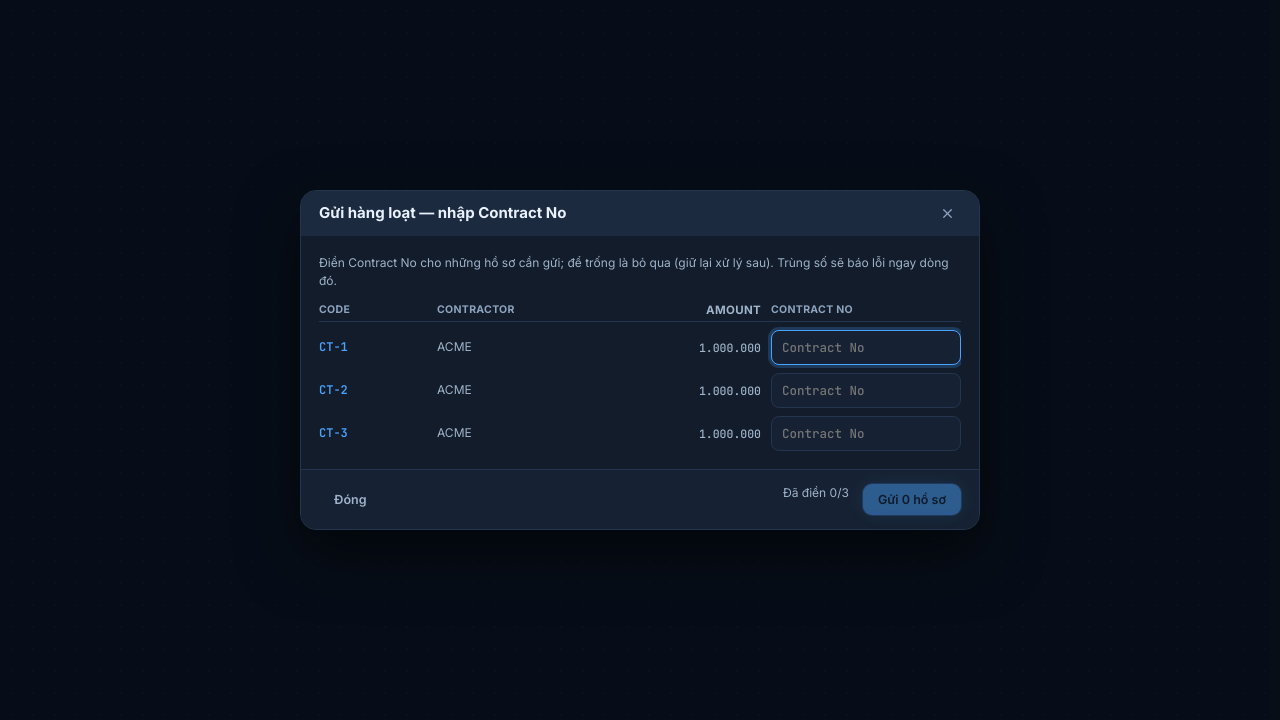
Test: BatchSendAccountingModal — enter many numbers at once › flags the same number typed on two rows live and disables send (sends nothing)
Step 1. Type "SAME" into the field with placeholder "Contract No" in the row of "CT-1" → point(866, 347), box [771,330,961,365]
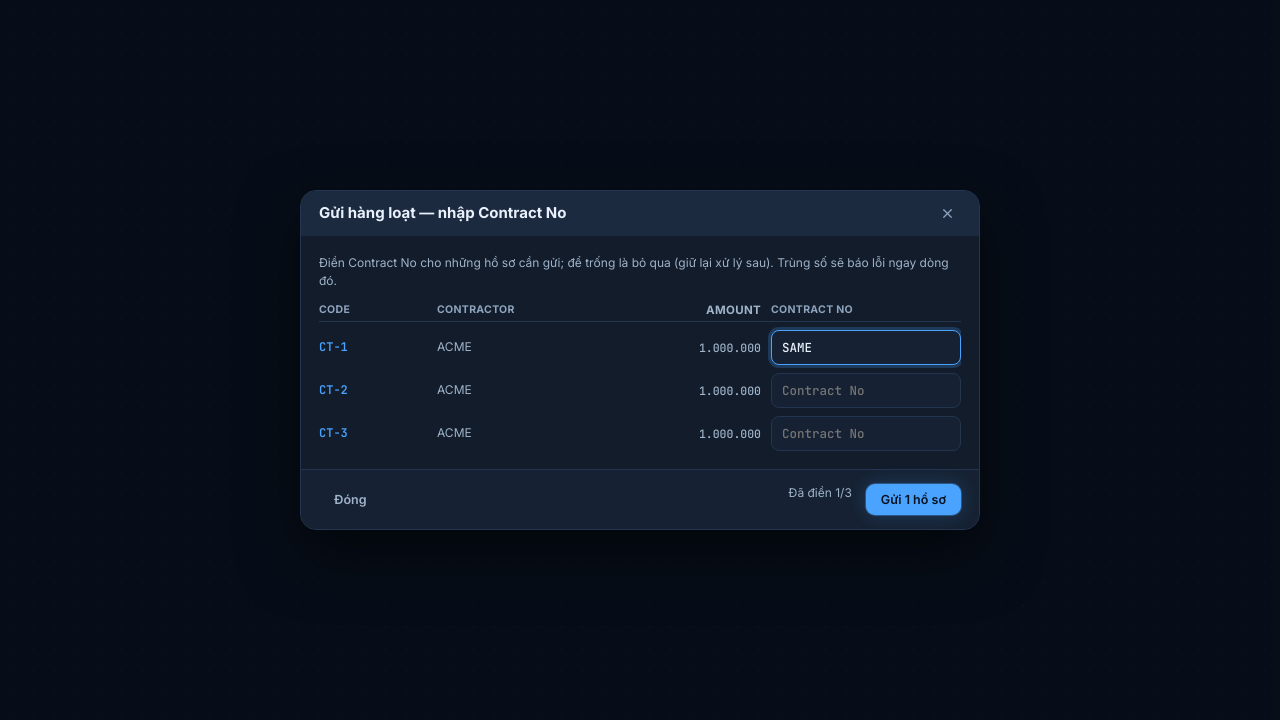
Step 2. Type "SAME" into the field with placeholder "Contract No" in the row of "CT-2" → point(866, 390), box [771,373,961,408]
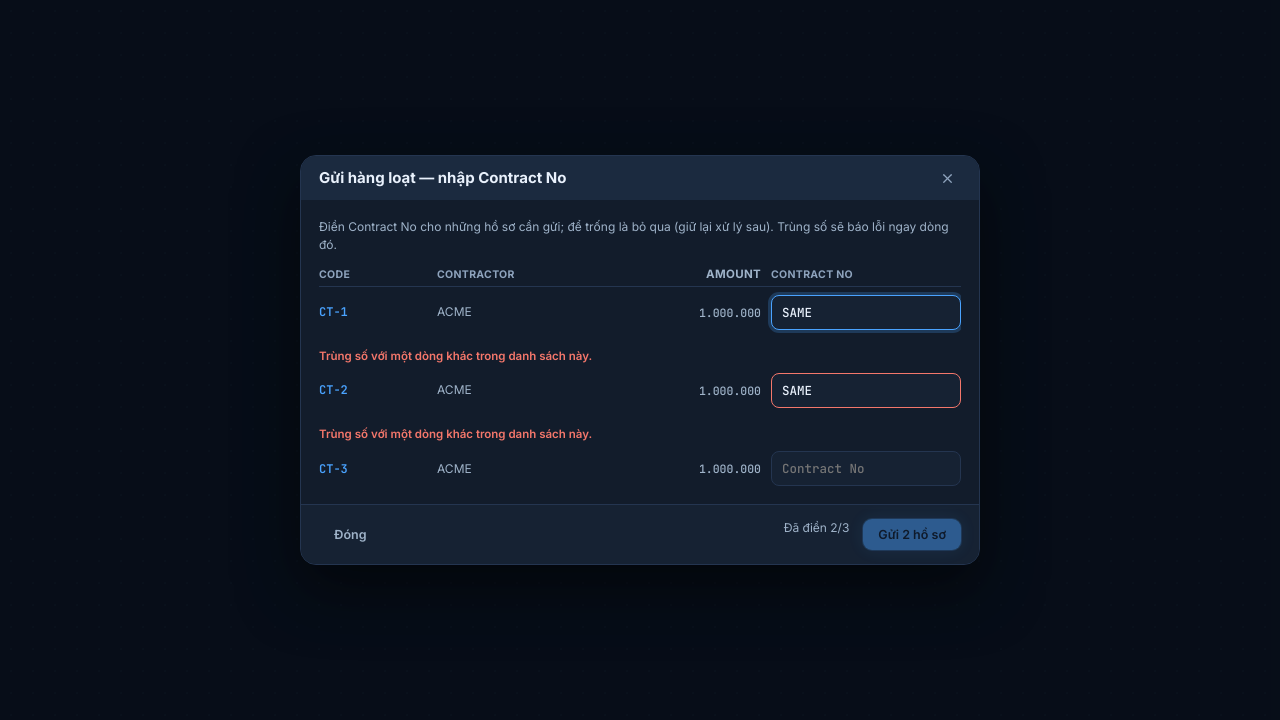
Check: the number of messages is 2, box [319,349,592,363]; [319,427,592,441]
Check: the button "Gửi 2 hồ sơ" is disabled, box [863,519,961,550]
